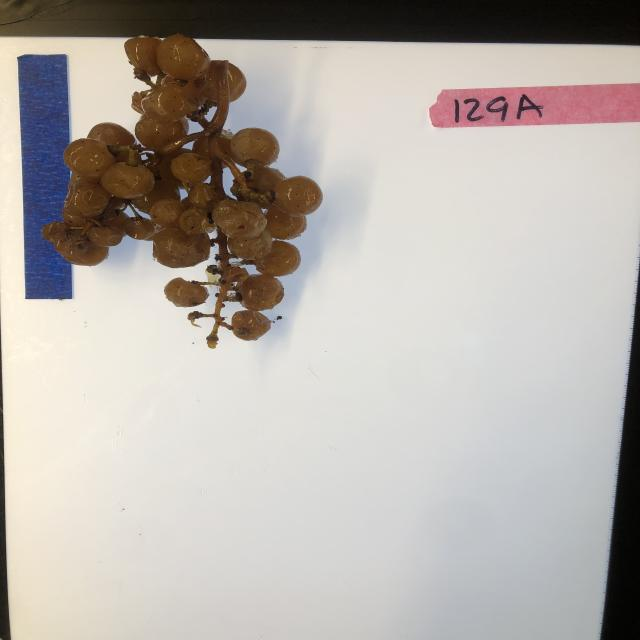grape_cluster: (41, 35, 324, 349)
index: (428, 81, 640, 130)
measure_label: (15, 51, 76, 302)
